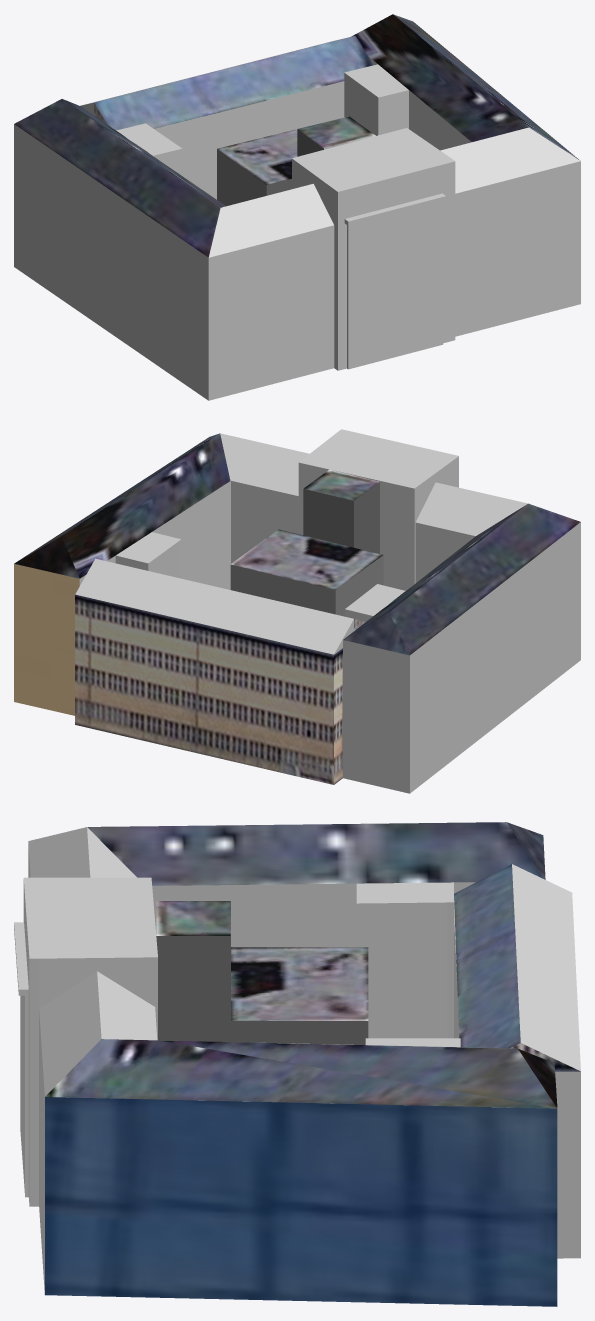
File: MasinskaSkola.fbx
The picture shows the model from 3 angles, top to bottom: view 1: azimuth 30°, elevation 25°; view 2: azimuth 150°, elevation 25°; view 3: azimuth 270°, elevation 25°; orthographic projection. The views are drawn at different scales.
Parts seen in each view (by area): view 1: Model; view 2: Model; view 3: Model.
Part boxes in pixels (left/top/right/bottom): Model: left=14, top=14, right=580, bottom=400; Model: left=14, top=429, right=580, bottom=793; Model: left=14, top=822, right=580, bottom=1306.
Size of the model in its own units: 73213 by 30944 by 64151.
